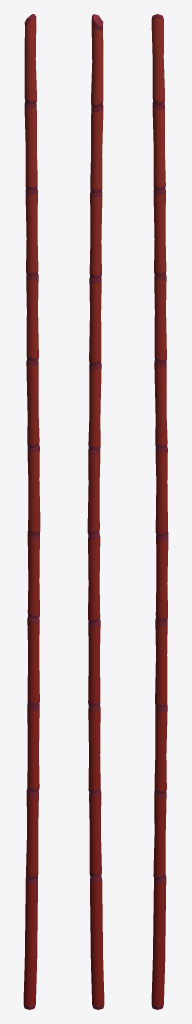
The model's file is Bamboo1.fbx.
3 renders of one model, left to right at view 1: azimuth 30°, elevation 25°; view 2: azimuth 210°, elevation 25°; view 3: azimuth 330°, elevation 25°, orthographic.
Parts seen in each view (by area): view 1: Bamboo; view 2: Bamboo; view 3: Bamboo.
Part boxes in pixels (x1,y1,x2,y2): Bamboo: (23,14,40,1009); Bamboo: (87,14,104,1009); Bamboo: (151,14,168,1009).
Size of the model in its own units: 20.31 by 1159 by 14.05.
